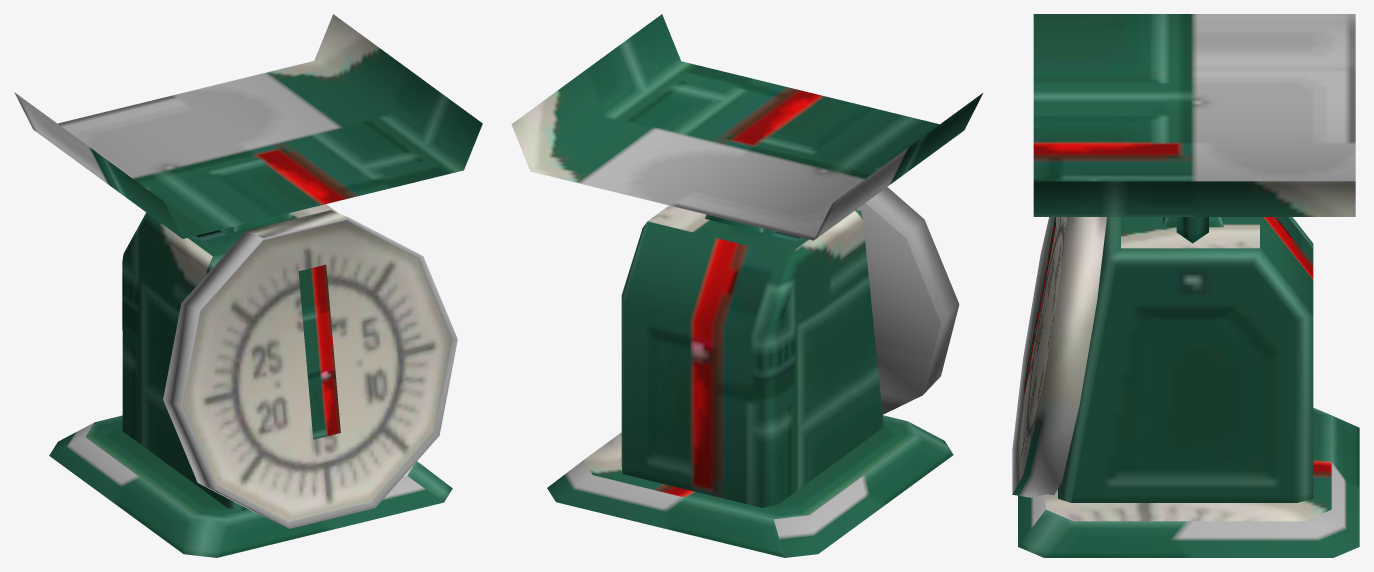
File: int_oth_weighing.dae
3 renders of one model, left to right at view 1: azimuth 30°, elevation 25°; view 2: azimuth 150°, elevation 25°; view 3: azimuth 270°, elevation 25°, orthographic. The views are drawn at different scales.
Visible parts, largest first — view 1: int_oth_weighing; view 2: int_oth_weighing; view 3: int_oth_weighing.
Part boxes in pixels (x1,y1,x2,y2): int_oth_weighing: [14, 14, 482, 557]; int_oth_weighing: [511, 14, 982, 557]; int_oth_weighing: [1012, 14, 1359, 557].
Size of the model in its own units: 17.51 by 19 by 15.35.
Materials: 1 (1 with a texture image).
